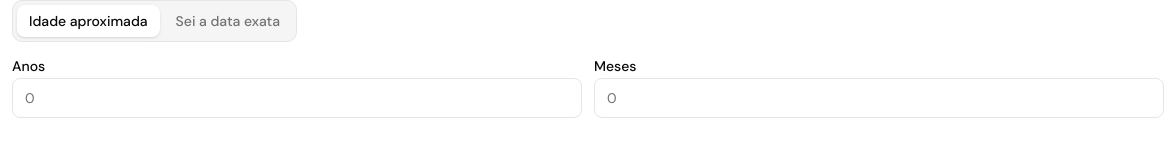
it: AgeInput component › should switch to exact date mode when toggle is checked
Step 1. Click the button "Sei a data exata" → click(228, 21), box [164,5,292,37]
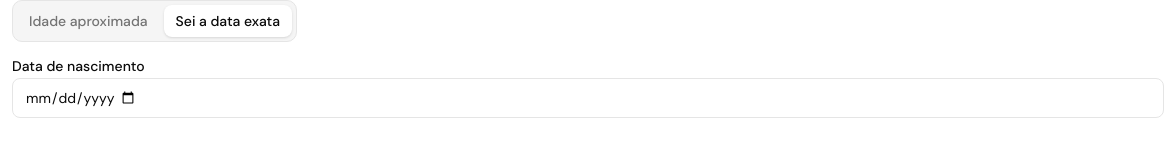
Expected: the date field labelled "Data de nascimento" is shown, [12,78,1164,118]
Expected: the label labelled "Anos" is gone
